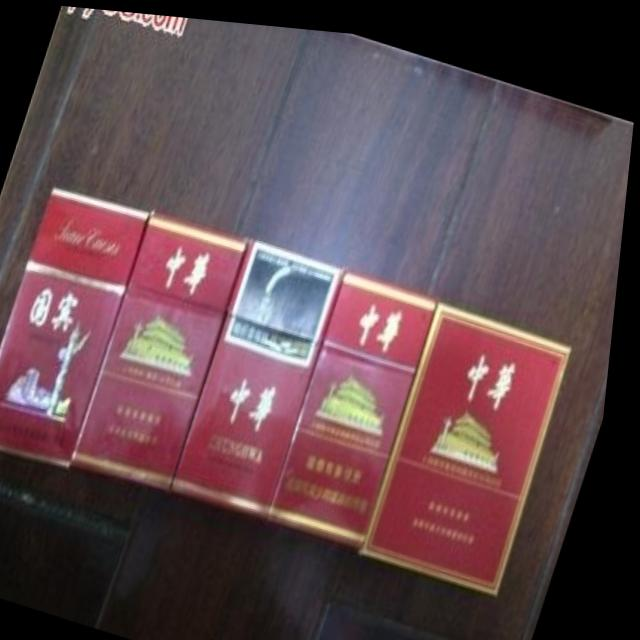box: (373, 295, 577, 584), (182, 232, 349, 511), (84, 210, 252, 487), (279, 263, 442, 537), (0, 185, 154, 464)
